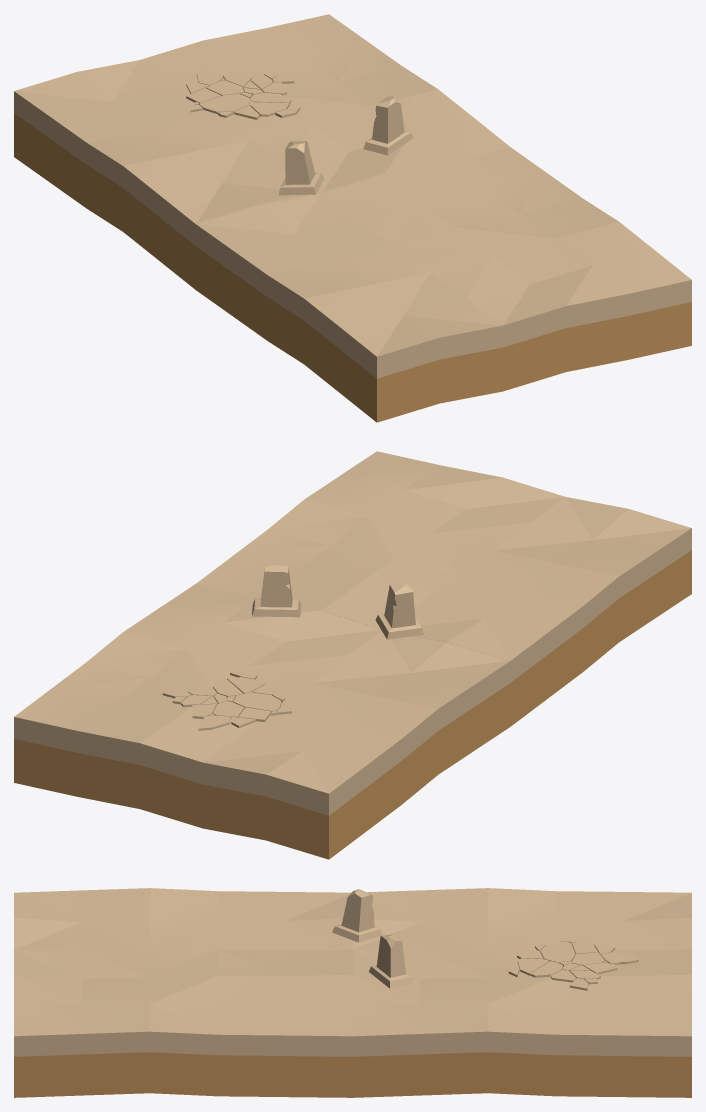
The picture shows the model from 3 angles, top to bottom: view 1: azimuth 30°, elevation 25°; view 2: azimuth 150°, elevation 25°; view 3: azimuth 270°, elevation 25°; orthographic projection. The views are drawn at different scales.
Visible parts, largest first — view 1: -mesh; view 2: -mesh; view 3: -mesh.
Boxes of the visible parts, bbox=[...] form: -mesh: bbox=[14, 14, 691, 422]; -mesh: bbox=[14, 451, 691, 859]; -mesh: bbox=[14, 888, 691, 1097].
Bounding box in the file's own units: 15 × 5.61 × 29.93.
